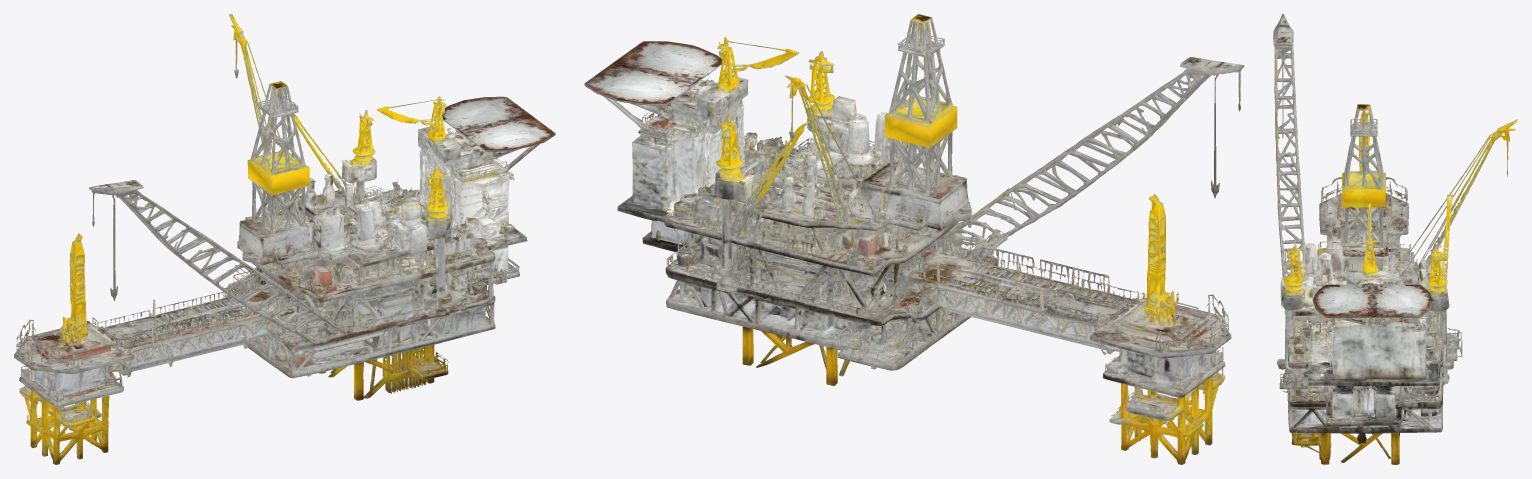
File: platform.glb
The picture shows the model from 3 angles, left to right: view 1: azimuth 30°, elevation 25°; view 2: azimuth 150°, elevation 25°; view 3: azimuth 270°, elevation 25°; orthographic projection. The views are drawn at different scales.
Bounding box in the file's own units: 1.9 × 1.12 × 0.8285.
1 material, 1 textured.
